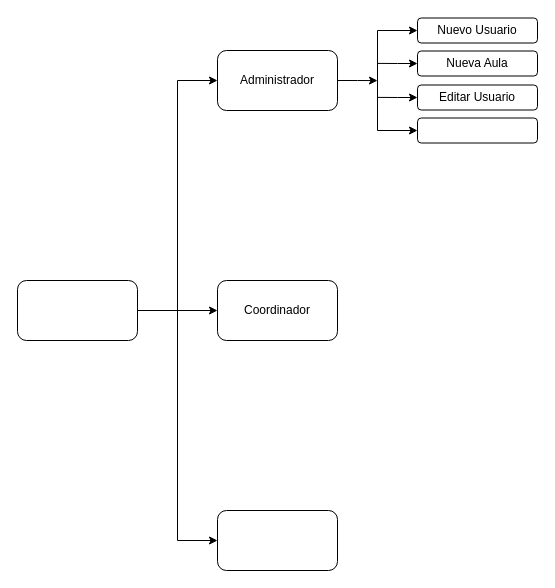
The diagram is 555 pixels wide and 588 high, and some of its shapes have lost their labels. Here are the shapes that lost their labels. From the top down, the centre of each, then its label:
the point at 477,130: Editar Aula
the point at 77,310: Ventana Login
the point at 277,540: Usuario
